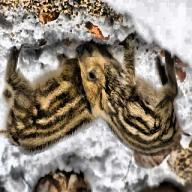boar: (75, 33, 190, 161), (0, 46, 98, 156)
